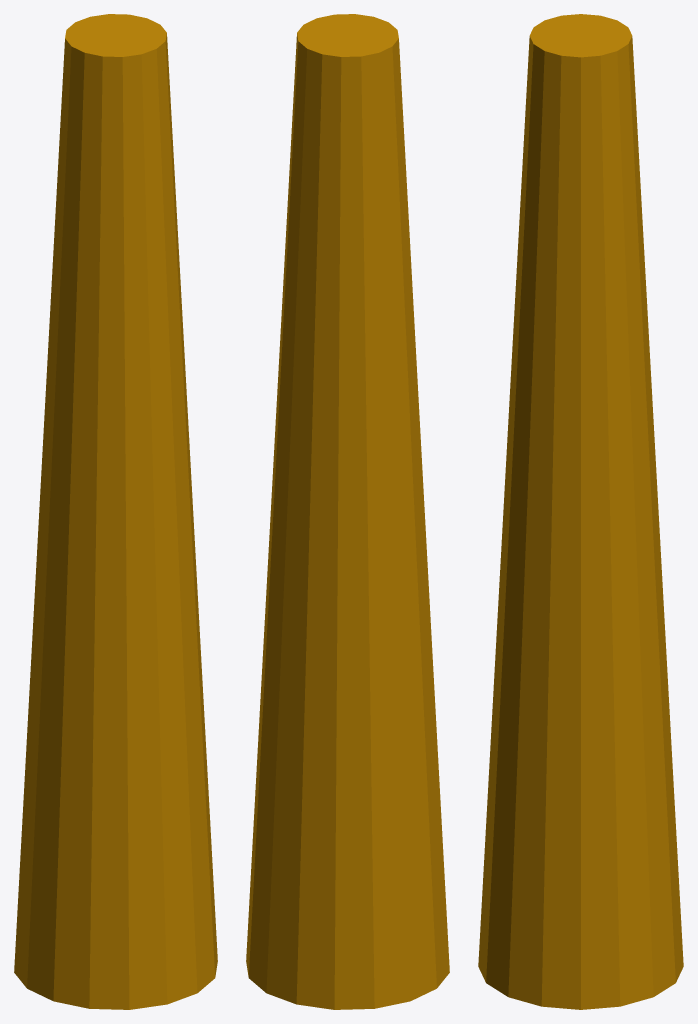
File: tree_miki.fbx
3 views of the same model, side by side, from view 1: azimuth 30°, elevation 25°; view 2: azimuth 150°, elevation 25°; view 3: azimuth 270°, elevation 25° (orthographic).
Parts seen in each view (by area): view 1: tree_miki; view 2: tree_miki; view 3: tree_miki.
Part boxes in pixels (bbox=[...]): tree_miki: bbox=[14, 14, 217, 1009]; tree_miki: bbox=[246, 14, 449, 1009]; tree_miki: bbox=[478, 14, 683, 1009].
Size of the model in its own units: 4000 by 20000 by 4000.
